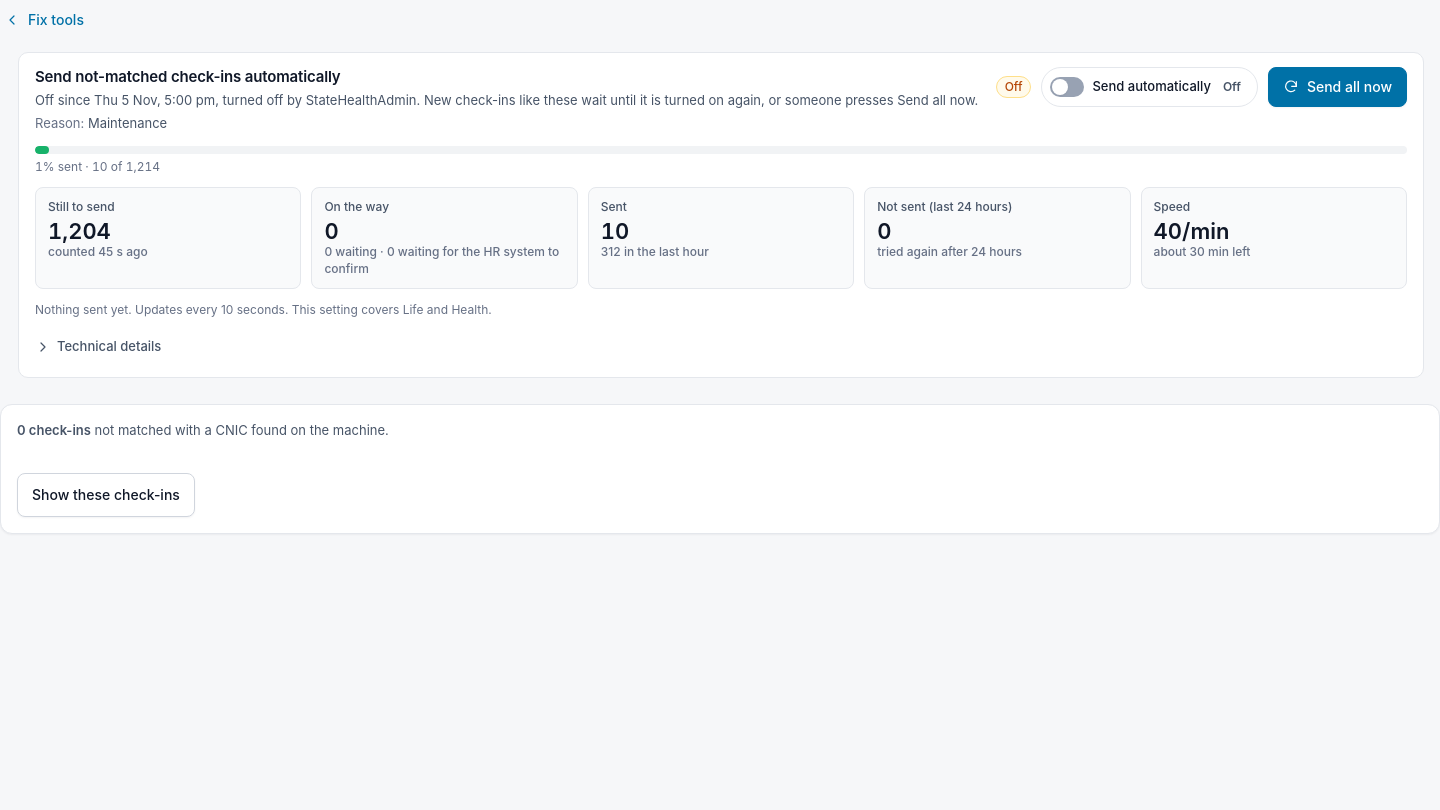
Test case: Fix tools › starts Send all now in one click and asks for the password only to change the switch
Later steps or results of the test are not shown.
What coordinates should you click on to do the following:
click the button "Send all now"
I would click on:
 (1337, 87)
Its box is [1268, 67, 1407, 107].
Expected: the field labelled "Your password" is not shown
What coordinates should you click on to do the following:
click the switch labelled "Send automatically Off"
I would click on:
 (1150, 87)
Its box is [1042, 67, 1258, 107].
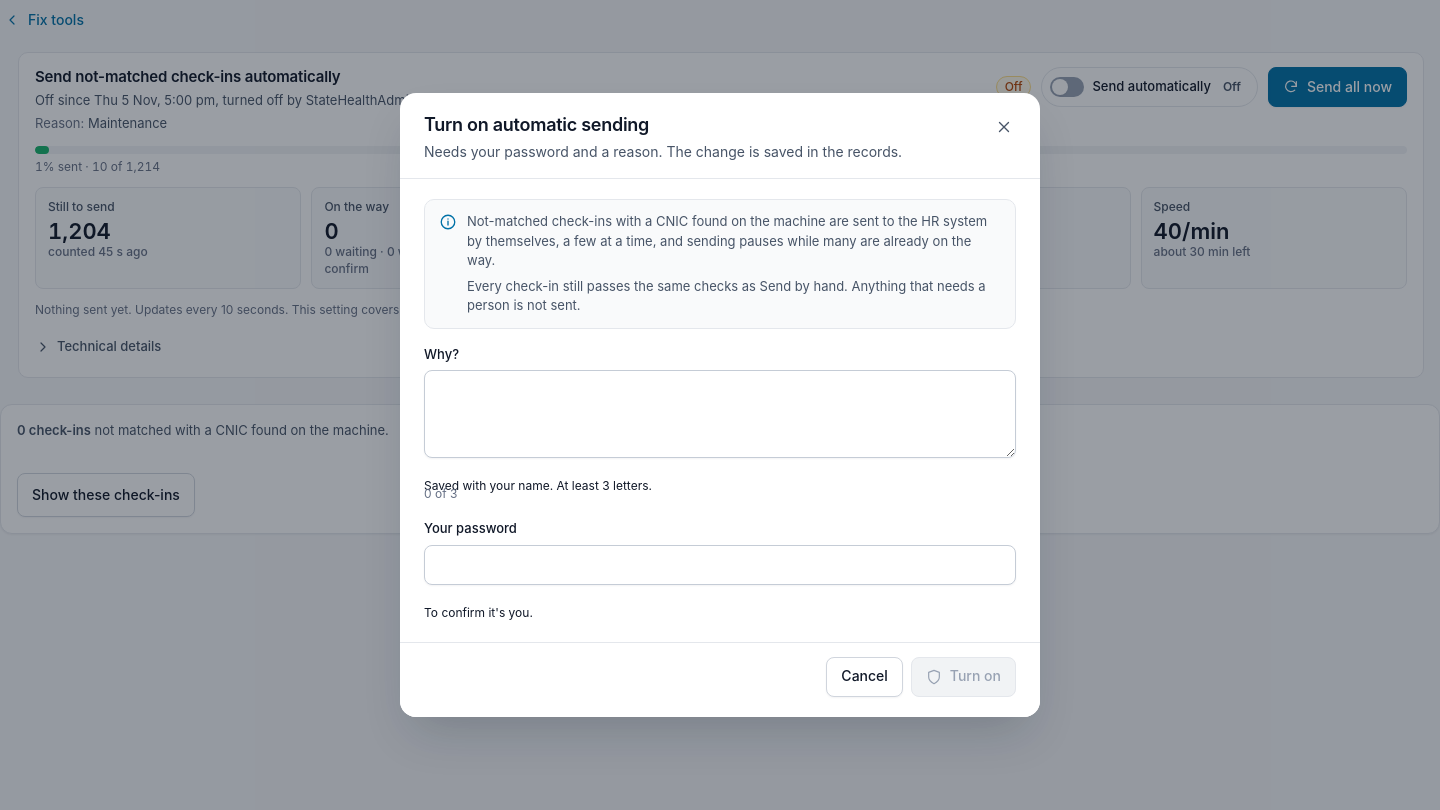
Expected: the password field labelled "Your password" is shown, [424, 545, 1016, 585]
Expected: the text box labelled "Why?" is shown, [424, 370, 1016, 458]
